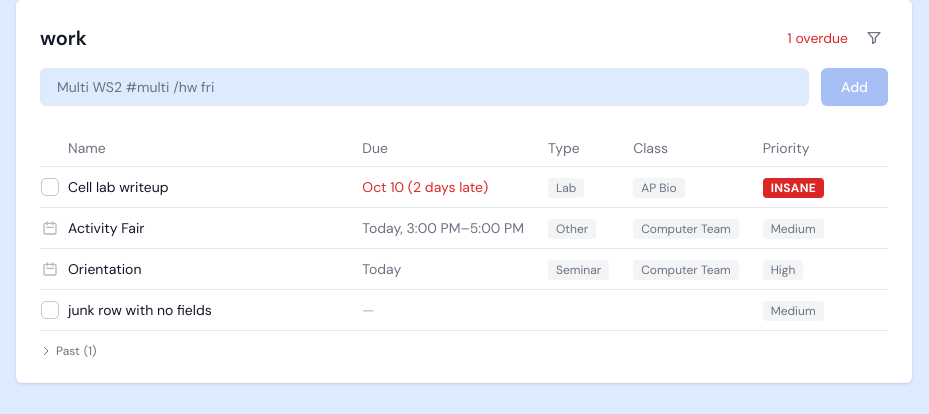
the table view hides past events too, and keeps the same toggle
Expected: the text "Club fair yesterday" is not shown
Click the button "Past (1)": (68, 351) [40, 343, 96, 359]
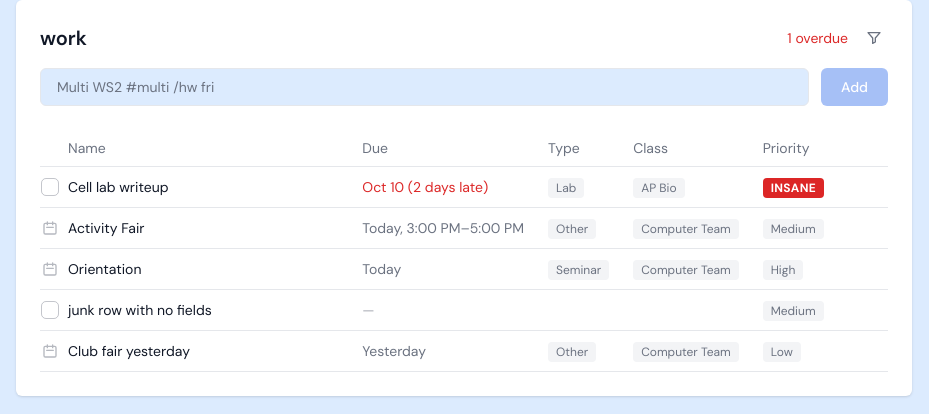
Now the button "Club fair yesterday" is shown, box [62, 339, 332, 363]
